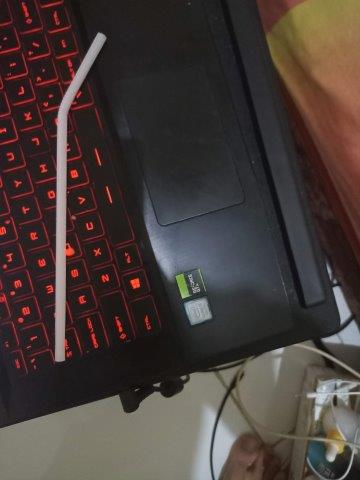sedotan: (54, 32, 107, 362)
